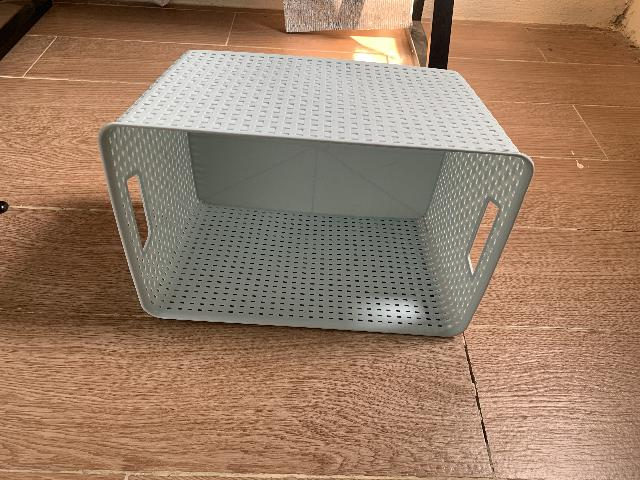cart: (96, 49, 534, 339)
